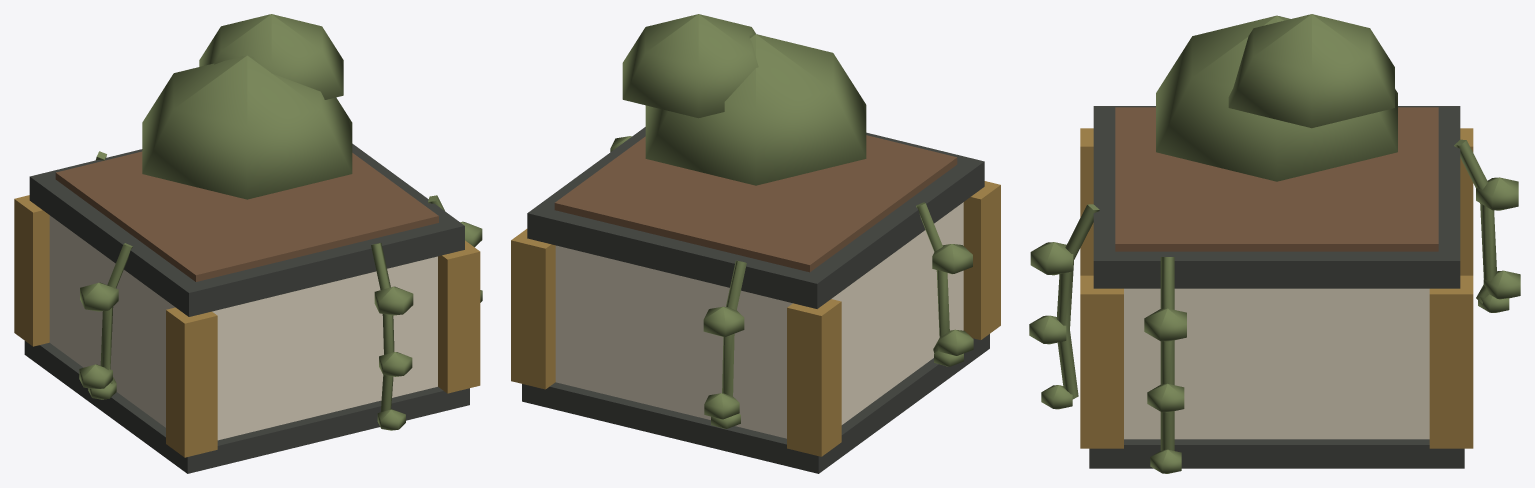
Rendered from pot_vine.glb.
3 views of the same model, side by side, from view 1: azimuth 30°, elevation 25°; view 2: azimuth 150°, elevation 25°; view 3: azimuth 270°, elevation 25° (orthographic). The views are drawn at different scales.
Parts seen in each view (by area): view 1: pot_vine; view 2: pot_vine; view 3: pot_vine.
Part boxes in pixels (x1=…): pot_vine: x1=14, y1=14, x2=482, y2=473; pot_vine: x1=511, y1=14, x2=1000, y2=473; pot_vine: x1=1029, y1=14, x2=1520, y2=473.
Bounding box in the file's own units: 1.13 × 1 × 1.12.
